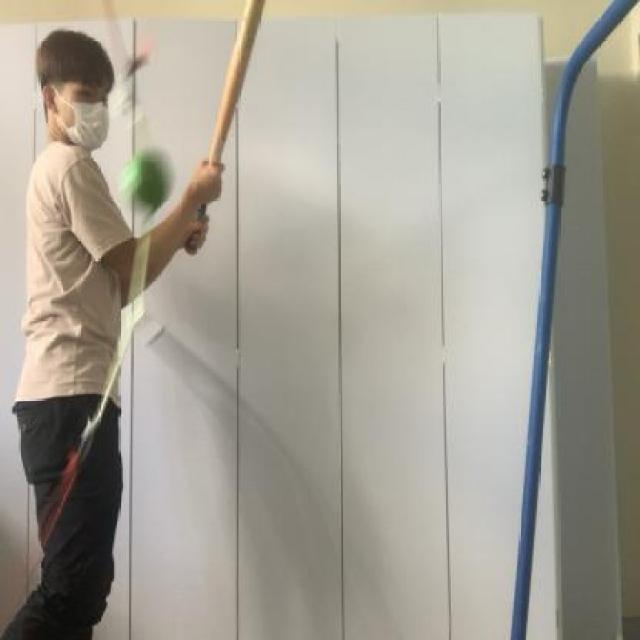baseball: (119, 142, 179, 224)
